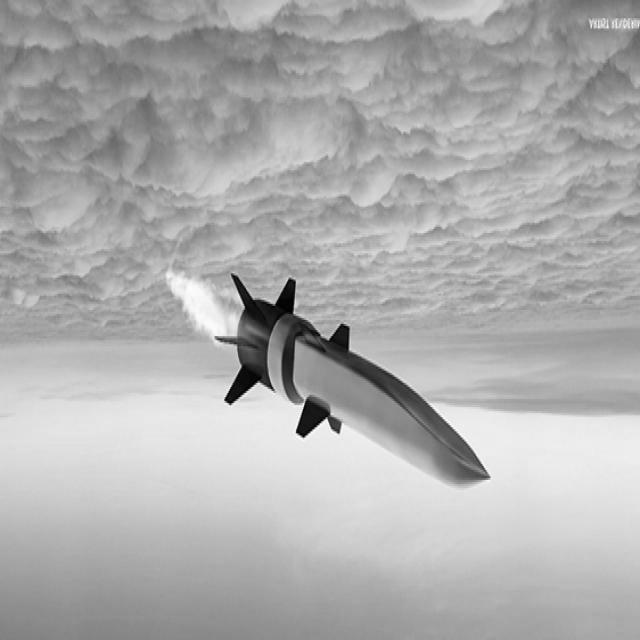Missile: (218, 266, 494, 493)
